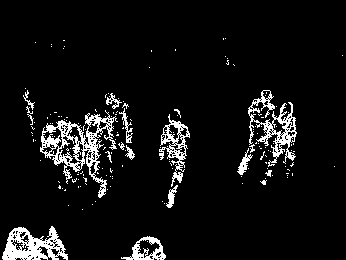person: (159, 106, 190, 207), (262, 102, 299, 186), (239, 90, 275, 176), (82, 108, 112, 197), (105, 93, 135, 159), (61, 118, 86, 182), (39, 112, 61, 162)
